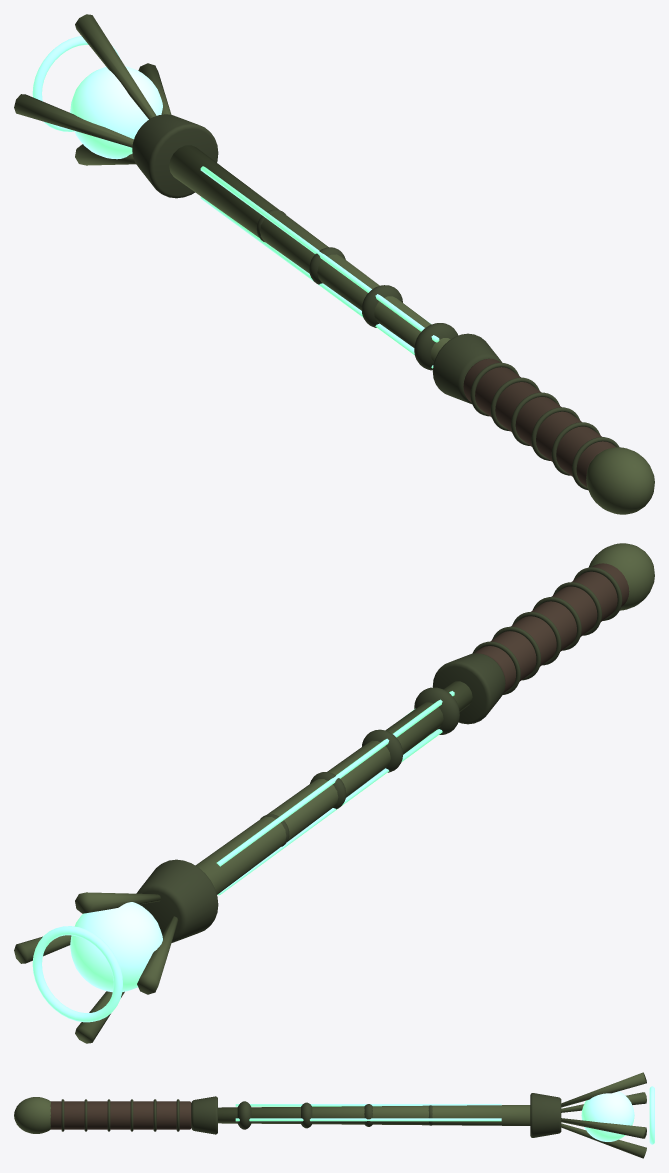
Rendered from conductor.glb.
3 views of the same model, one above another, from view 1: azimuth 30°, elevation 25°; view 2: azimuth 150°, elevation 25°; view 3: azimuth 270°, elevation 25° (orthographic). The views are drawn at different scales.
Visible parts, largest first — view 1: shaft, grip, core_shell, head_base, pommel, collar, prong2, prong1, vein1, vein2, node0, tip_ring (+1 smaller); view 2: shaft, grip, core_shell, head_base, collar, tip_ring, pommel, vein1, prong1, prong2, vein2, node0 (+3 smaller); view 3: shaft, grip, core_shell, head_base, pommel, vein0, collar, prong0, prong1, prong3, vein1, node0 (+4 smaller).
Part boxes in pixels (x1,y1,x2,y2): shaft: [169, 145, 450, 361]; grip: [463, 358, 615, 486]; core_shell: [70, 66, 162, 159]; head_base: [132, 114, 218, 198]; pommel: [586, 447, 654, 514]; collar: [432, 333, 502, 403]; prong2: [14, 94, 133, 147]; prong1: [75, 14, 156, 119]; vein1: [200, 166, 439, 342]; vein2: [200, 196, 433, 368]; node0: [414, 323, 458, 370]; tip_ring: [32, 36, 120, 131]; shaft: [195, 681, 472, 894]; grip: [474, 563, 629, 693]; core_shell: [70, 902, 162, 992]; head_base: [136, 859, 218, 942]; collar: [432, 653, 505, 724]; tip_ring: [32, 926, 122, 1022]; pommel: [588, 543, 654, 610]; vein1: [216, 691, 454, 866]; prong1: [75, 892, 160, 913]; prong2: [137, 916, 178, 994]; vein2: [217, 729, 442, 895]; node0: [414, 687, 459, 734]; shaft: [218, 1105, 530, 1125]; grip: [50, 1101, 191, 1129]; core_shell: [581, 1091, 634, 1141]; head_base: [530, 1093, 561, 1137]; pommel: [14, 1097, 50, 1133]; vein0: [235, 1118, 501, 1121]; collar: [191, 1096, 217, 1134]; prong0: [561, 1118, 646, 1138]; prong1: [561, 1072, 646, 1107]; prong3: [561, 1123, 646, 1158]; vein1: [235, 1104, 501, 1106]; node0: [237, 1101, 251, 1129].
Size of the model in its own units: 0.1069 by 0.1069 by 0.7232.
